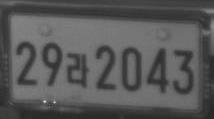0: (122, 46, 142, 91)
2: (15, 41, 37, 86), (94, 45, 116, 90)
3: (172, 49, 194, 94)
4: (146, 47, 169, 93)
9: (41, 42, 62, 86)
라: (66, 52, 90, 87)
